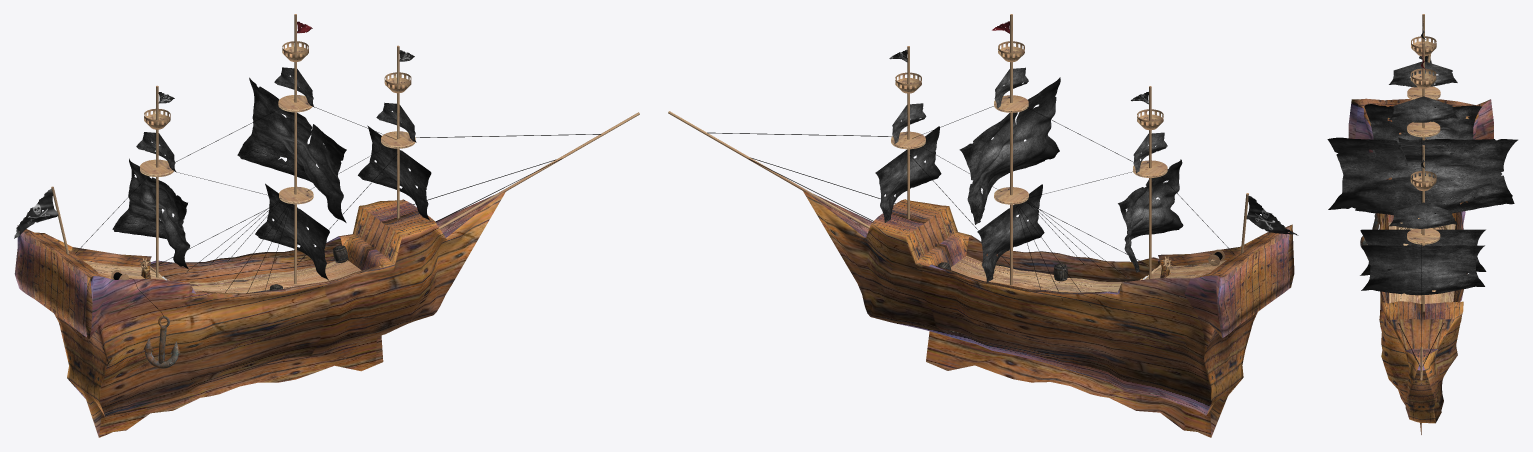
The model's file is ship.glb.
3 views of the same model, side by side, from view 1: azimuth 30°, elevation 25°; view 2: azimuth 150°, elevation 25°; view 3: azimuth 270°, elevation 25° (orthographic). The views are drawn at different scales.
Visible parts, largest first — view 1: body, sails, floor, stands, under-bins, bins, Torus, sail-4; view 2: body, sails, floor, stands, under-bins, bins, sail-4; view 3: sails, body, under-bins, bins, floor, stands.
Part boxes in pixels (box(x1,y1,x2,y2)): body: box(14, 192, 505, 437); sails: box(112, 67, 431, 280); floor: box(83, 260, 361, 293); stands: box(51, 14, 639, 283); under-bins: box(140, 95, 415, 204); bins: box(144, 41, 411, 129); Torus: box(143, 316, 180, 368); sail-4: box(14, 189, 58, 238); body: box(803, 191, 1294, 437); sails: box(875, 67, 1183, 282); floor: box(951, 256, 1226, 309); stands: box(668, 14, 1248, 285); under-bins: box(891, 95, 1167, 204); bins: box(895, 41, 1163, 130); sail-4: box(1246, 195, 1298, 235); sails: box(1327, 61, 1517, 295); body: box(1348, 98, 1493, 434); under-bins: box(1407, 86, 1440, 244); bins: box(1410, 36, 1436, 190); floor: box(1388, 222, 1455, 303); stands: box(1420, 14, 1431, 380).
Size of the model in its own units: 5.4 by 3.08 by 1.48.
Materials: 50 (35 with a texture image).
